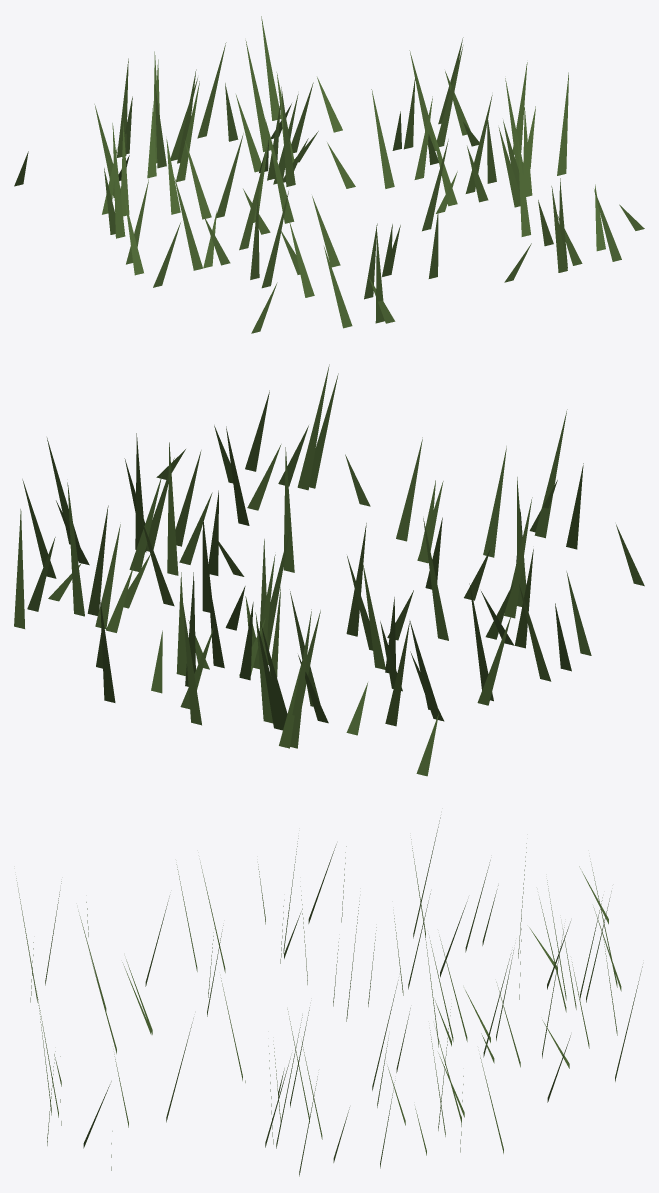
File: prop_grass.glb
The picture shows the model from 3 angles, top to bottom: view 1: azimuth 30°, elevation 25°; view 2: azimuth 150°, elevation 25°; view 3: azimuth 270°, elevation 25°; orthographic projection. The views are drawn at different scales.
Visible parts, largest first — view 1: base__art06_leaf_sun; view 2: base__art06_leaf_sun; view 3: base__art06_leaf_sun.
Boxes of the visible parts, x1,y1,x2,y2 form: base__art06_leaf_sun: (14,16,644,333); base__art06_leaf_sun: (14,364,644,776); base__art06_leaf_sun: (16,817,642,1176).
Bounding box in the file's own units: 3.72 × 0.8959 × 3.74.
